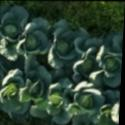cabbage: (73, 95, 94, 111), (1, 19, 18, 36), (99, 53, 116, 70), (25, 35, 40, 51), (80, 58, 95, 72), (55, 42, 71, 54), (46, 92, 59, 106)
